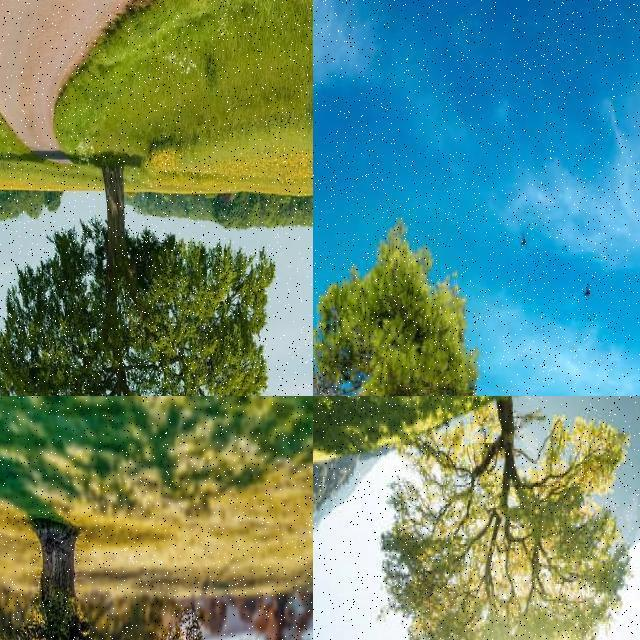tree: (376, 396, 640, 640), (0, 164, 272, 396), (313, 212, 481, 396), (1, 536, 216, 640), (239, 580, 313, 640)
